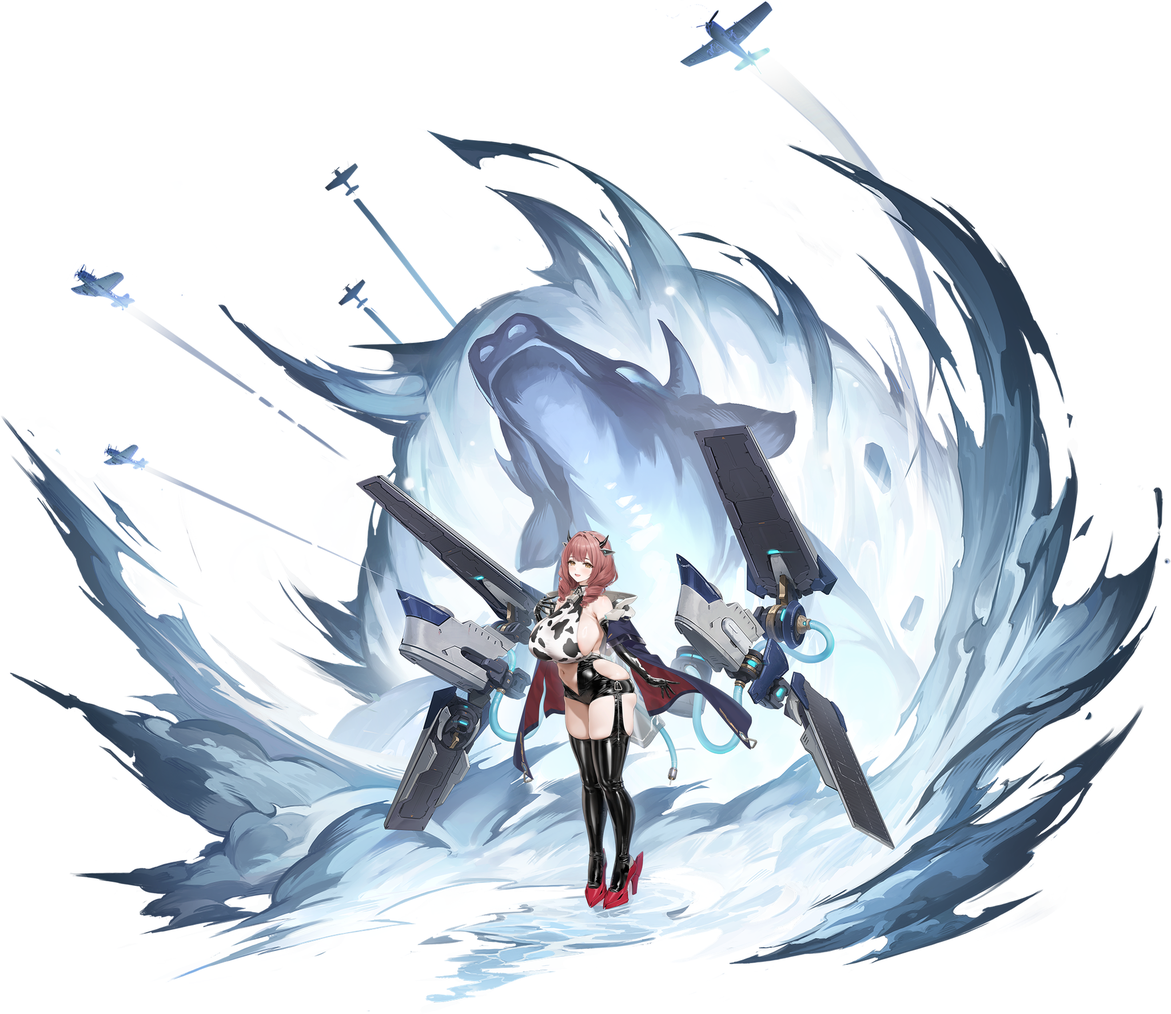person: (475, 498, 744, 935)
